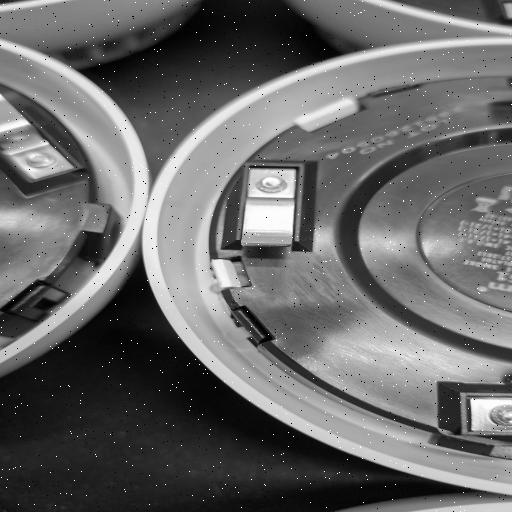yaysiz: (230, 158, 341, 277)
